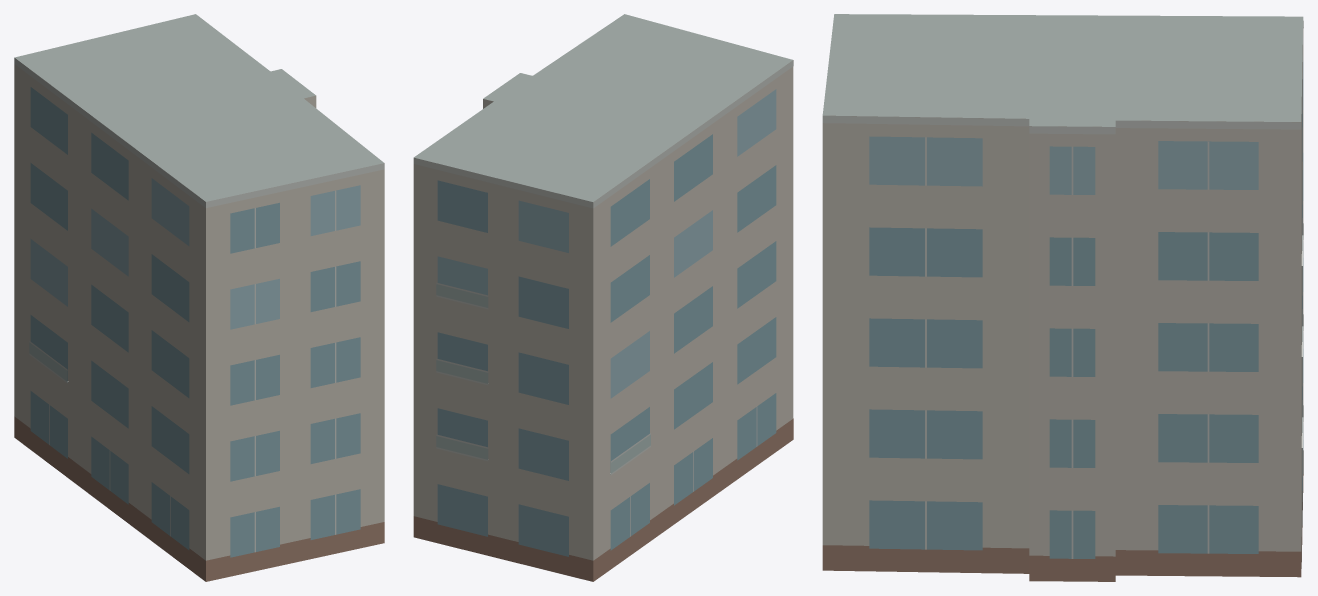
The model's file is survey-upis-32916986.glb.
The picture shows the model from 3 angles, left to right: view 1: azimuth 30°, elevation 25°; view 2: azimuth 150°, elevation 25°; view 3: azimuth 270°, elevation 25°; orthographic projection. The views are drawn at different scales.
Parts seen in each view (by area): view 1: survey-upis-32916986.tmp; view 2: survey-upis-32916986.tmp; view 3: survey-upis-32916986.tmp.
Part boxes in pixels (x1,y1,x2,y2): survey-upis-32916986.tmp: [14, 14, 384, 581]; survey-upis-32916986.tmp: [413, 14, 793, 581]; survey-upis-32916986.tmp: [822, 14, 1303, 581].
Bounding box in the file's own units: 7.83 × 14.7 × 14.09.
